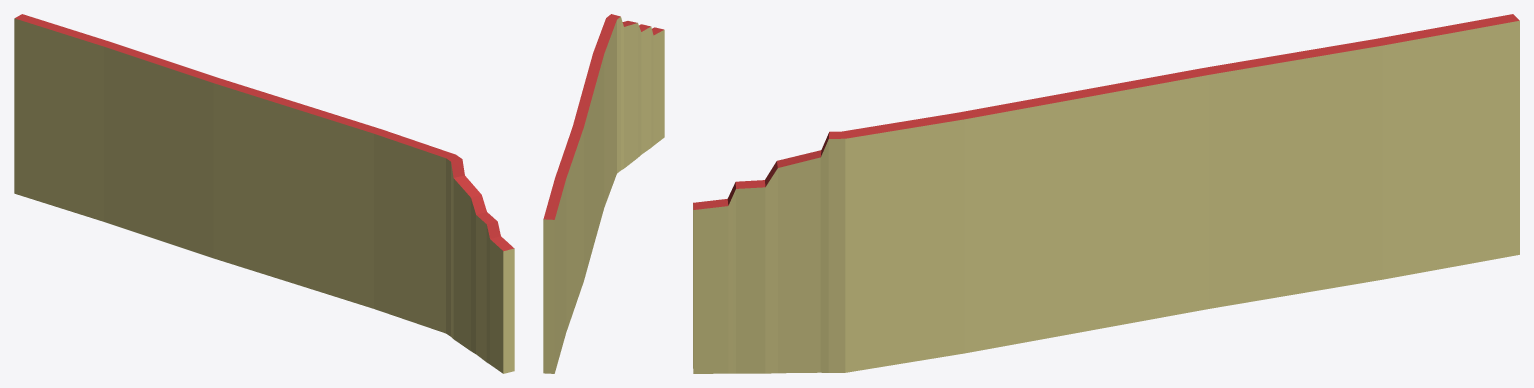
The picture shows the model from 3 angles, left to right: view 1: azimuth 30°, elevation 25°; view 2: azimuth 150°, elevation 25°; view 3: azimuth 270°, elevation 25°; orthographic projection. The views are drawn at different scales.
Size of the model in its own units: 12.54 by 34.82 by 10.88.
